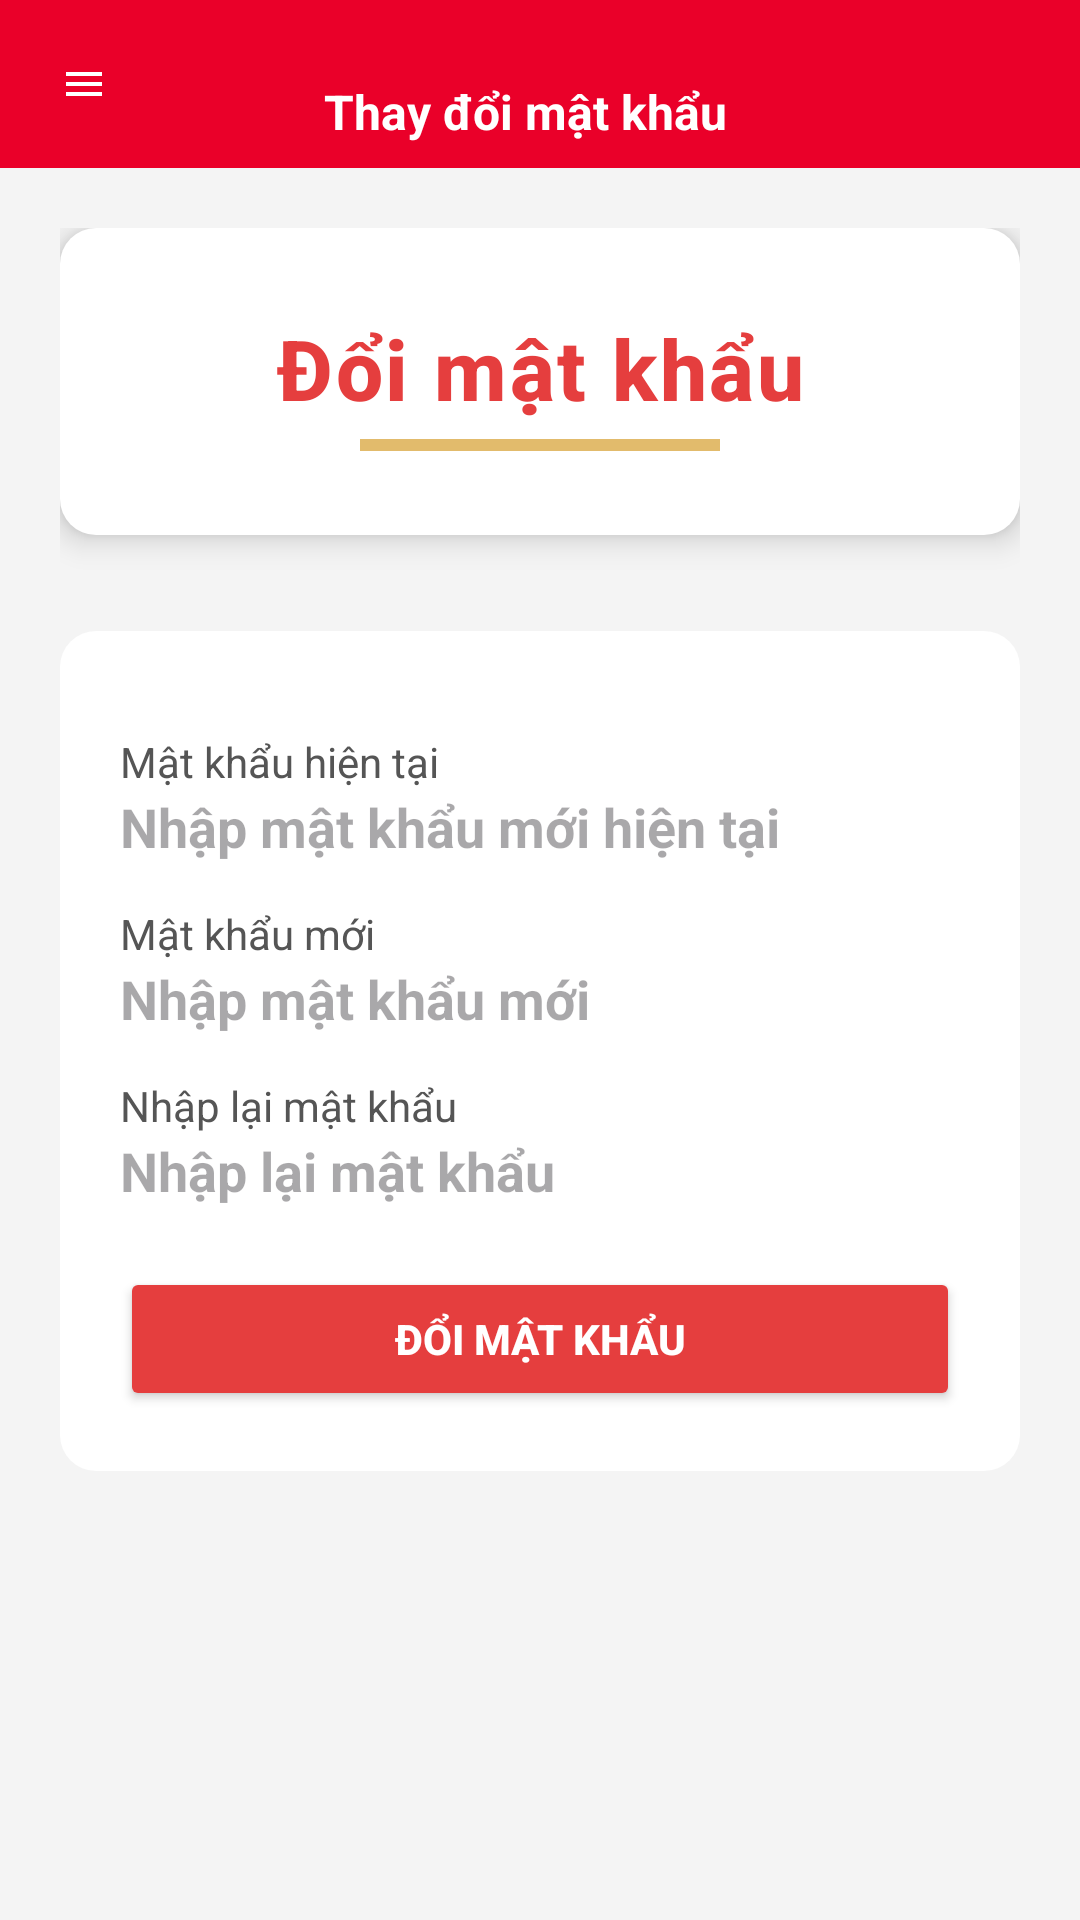

Icon click points for this 1080x1920 phone screenshot, format point (x, y):
menu: point (84, 84)
